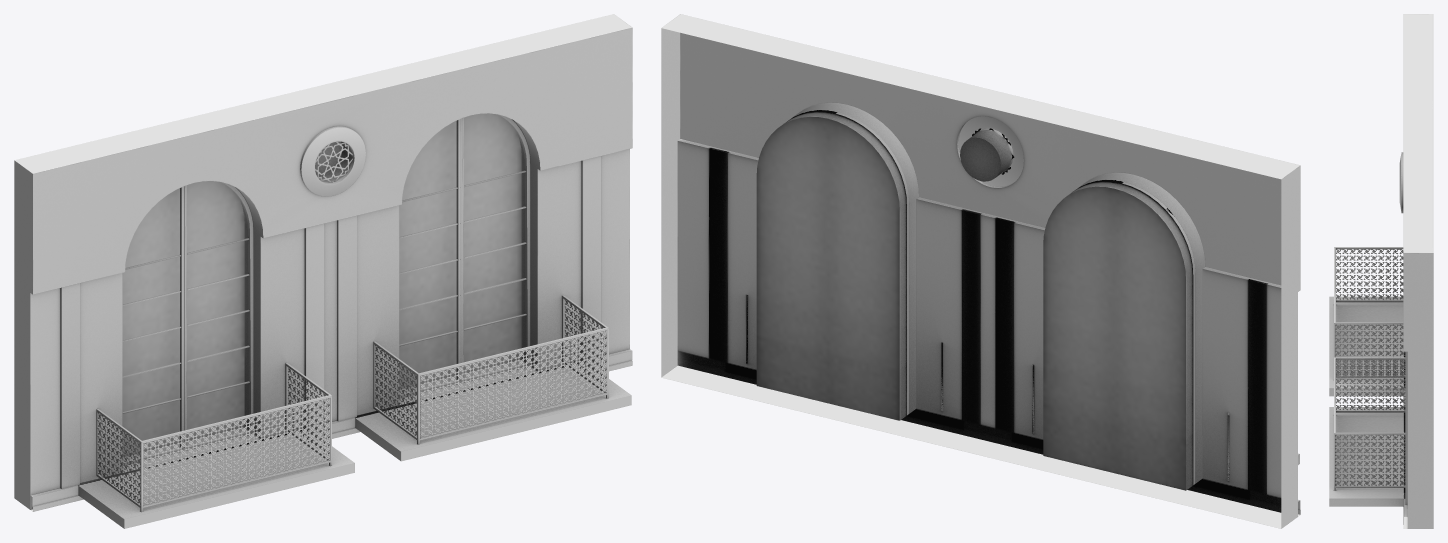
Rendered from floorsecond_3.glb.
The picture shows the model from 3 angles, left to right: view 1: azimuth 30°, elevation 25°; view 2: azimuth 150°, elevation 25°; view 3: azimuth 270°, elevation 25°; orthographic projection. The views are drawn at different scales.
Parts seen in each view (by area): view 1: floorsecond_3; view 2: floorsecond_3; view 3: floorsecond_3.
Part boxes in pixels (box(x1,y1,x2,y2)): floorsecond_3: box(14, 14, 632, 528); floorsecond_3: box(661, 14, 1300, 528); floorsecond_3: box(1329, 14, 1433, 528).
Size of the model in its own units: 6.5 by 3.5 by 1.2.
Materials: 1 (1 with a texture image).
